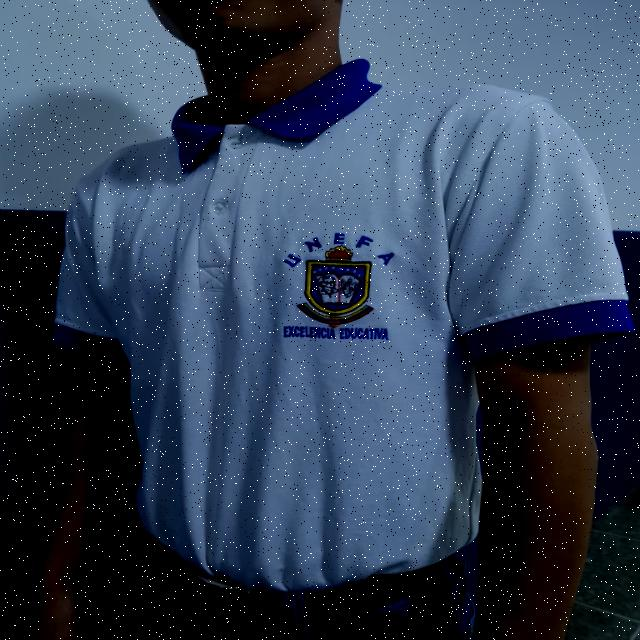uniforme_superior: (50, 56, 637, 594)
